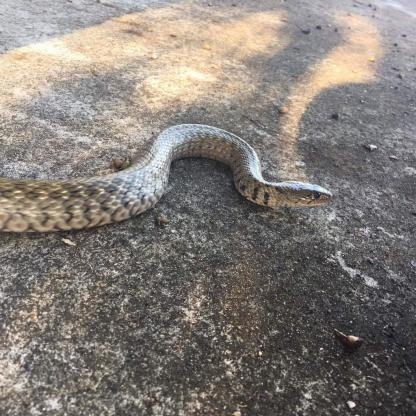Snake: (0, 119, 339, 233)
